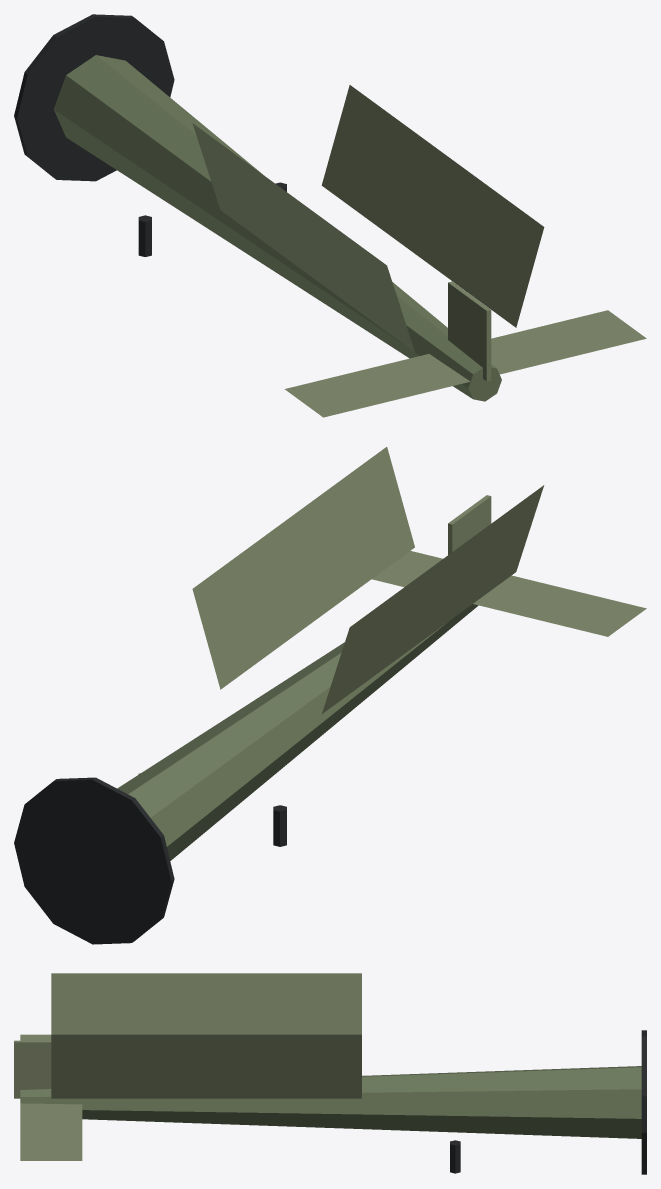
Rendered from plane_jp_bomber_folded.glb.
3 renders of one model, top to bottom at view 1: azimuth 30°, elevation 25°; view 2: azimuth 150°, elevation 25°; view 3: azimuth 270°, elevation 25°, orthographic. The views are drawn at different scales.
Parts seen in each view (by area): view 1: Hull; view 2: Hull; view 3: Hull.
Part boxes in pixels (box(x1,y1,x2,y2)): Hull: box(14, 14, 646, 417); Hull: box(14, 447, 646, 944); Hull: box(14, 973, 646, 1174).
Size of the model in its own units: 5.76 by 3.5 by 12.22.
